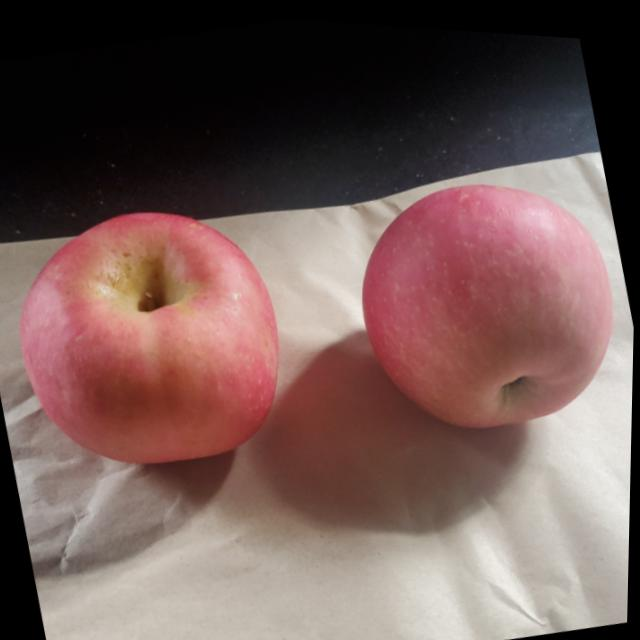apple: (0, 179, 303, 493), (334, 145, 638, 453)
